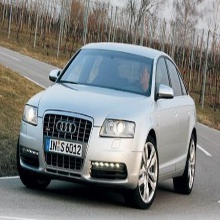no damage: (15, 41, 197, 210)
